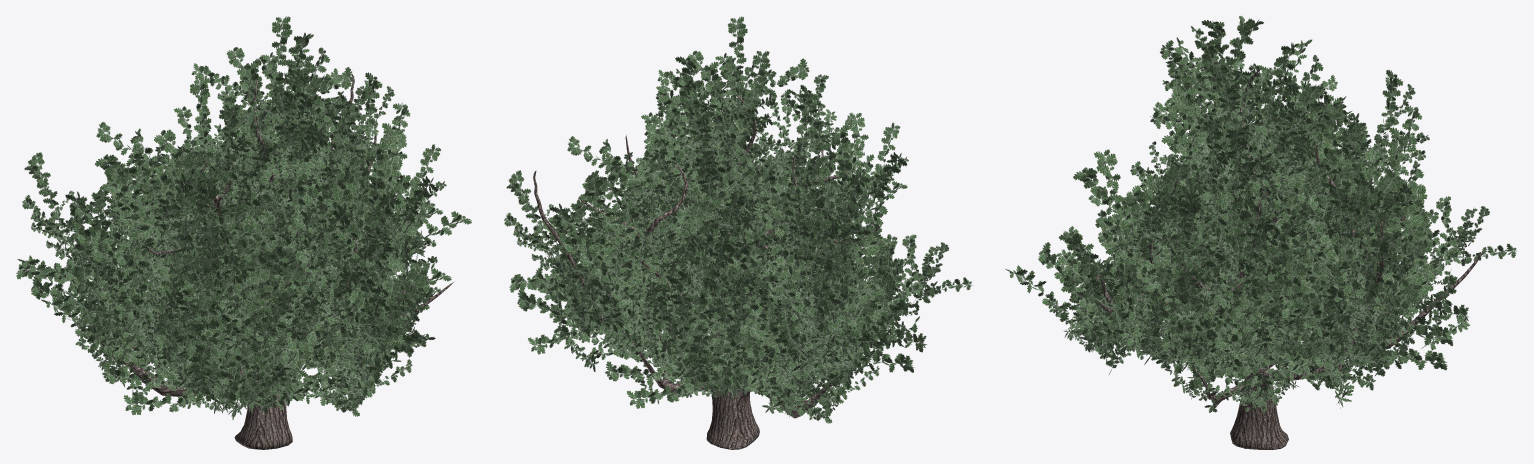
File: dob_koncni.gltf
3 renders of one model, left to right at view 1: azimuth 30°, elevation 25°; view 2: azimuth 150°, elevation 25°; view 3: azimuth 270°, elevation 25°, orthographic. The views are drawn at different scales.
Parts seen in each view (by area): view 1: dob_novaveja_foto.1002, dob_novaveja_foto.196, og_deblo_veje, dob_novaveja_foto.1004, dob_novaveja_foto.1003; view 2: dob_novaveja_foto.196, dob_novaveja_foto.1002, og_deblo_veje, dob_novaveja_foto.1004; view 3: dob_novaveja_foto.196, dob_novaveja_foto.1002, dob_novaveja_foto.1003, dob_novaveja_foto.1005, og_deblo_veje.
Boxes of the visible parts, box(x1,y1,x2,y2) form: dob_novaveja_foto.1002: box(16, 16, 446, 419); dob_novaveja_foto.196: box(17, 32, 435, 389); og_deblo_veje: box(90, 73, 454, 449); dob_novaveja_foto.1004: box(41, 283, 255, 401); dob_novaveja_foto.1003: box(271, 138, 471, 305); dob_novaveja_foto.196: box(504, 16, 937, 408); dob_novaveja_foto.1002: box(527, 56, 972, 417); og_deblo_veje: box(533, 95, 881, 449); dob_novaveja_foto.1004: box(750, 260, 919, 423); dob_novaveja_foto.196: box(1038, 15, 1516, 408); dob_novaveja_foto.1002: box(1005, 39, 1470, 386); dob_novaveja_foto.1003: box(1169, 188, 1357, 369); dob_novaveja_foto.1005: box(1168, 265, 1356, 412); og_deblo_veje: box(1096, 67, 1484, 449).
Size of the model in its own units: 15.98 by 15.3 by 16.57.
2 materials, 2 textured.
